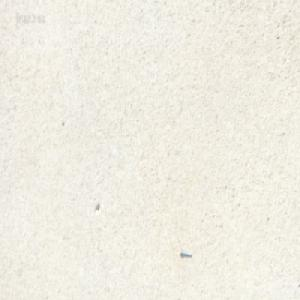Nail: (179, 248, 191, 256)
